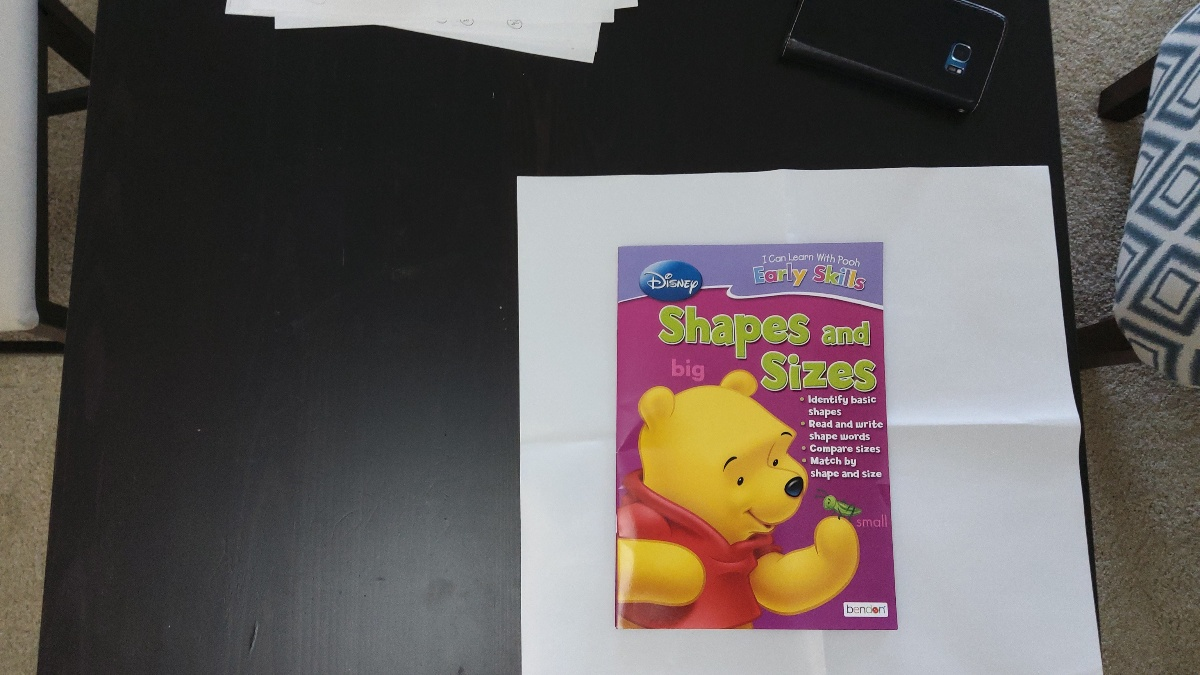book: (620, 247, 895, 632)
